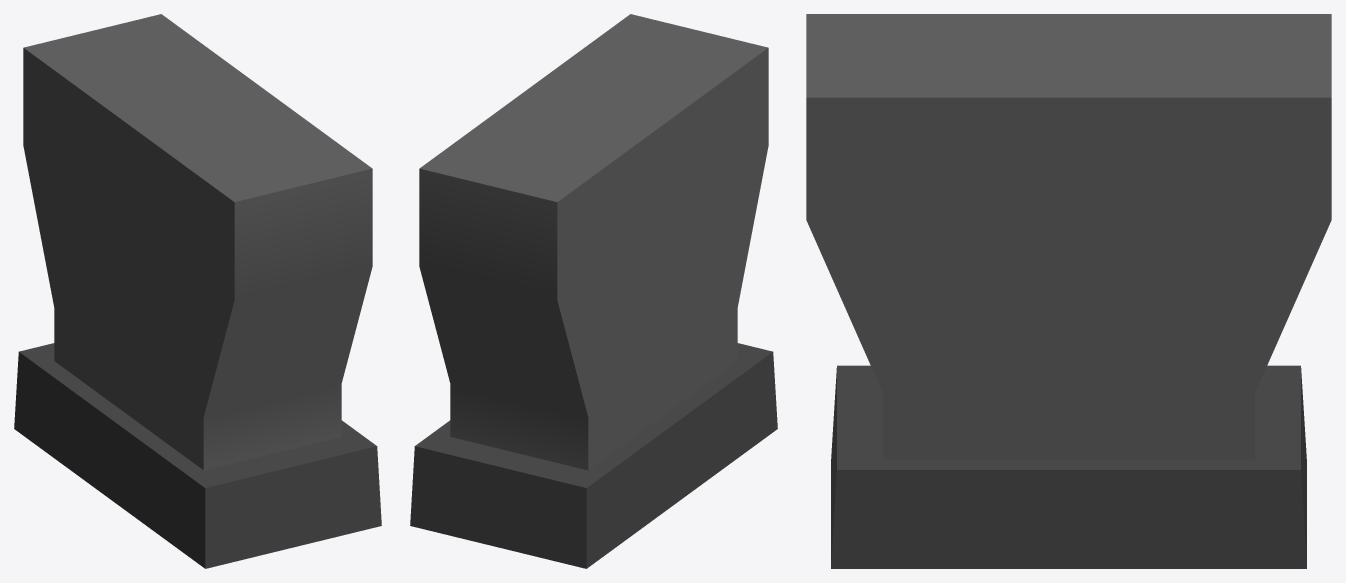
The model's file is Pipe_1_B_5.fbx.
3 views of the same model, side by side, from view 1: azimuth 30°, elevation 25°; view 2: azimuth 150°, elevation 25°; view 3: azimuth 270°, elevation 25° (orthographic). The views are drawn at different scales.
Parts seen in each view (by area): view 1: Pipe_1_B_5; view 2: Pipe_1_B_5; view 3: Pipe_1_B_5.
Boxes of the visible parts, left/top/right/bottom form: Pipe_1_B_5: left=14, top=14, right=381, bottom=568; Pipe_1_B_5: left=410, top=14, right=777, bottom=568; Pipe_1_B_5: left=806, top=14, right=1331, bottom=568.
Size of the model in its own units: 17 by 34.01 by 35.24.
